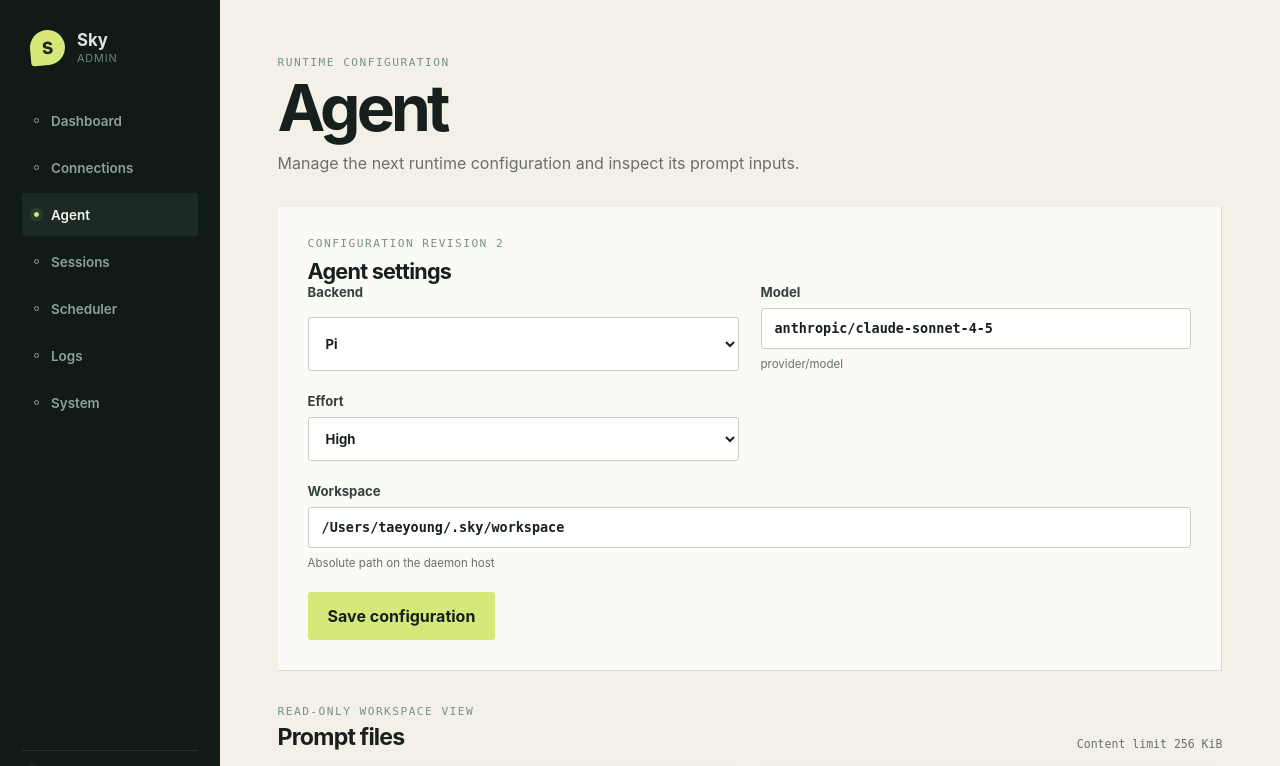
shows agent configuration and distinguishes prompt file states
The width and height of the screenshot is (1280, 766).
Expected: the heading "Agent settings" is shown, [308,258,451,284]
Expected: the dropdown labelled "Backend" shows "Pi", [308,317,738,371]
Click the link "Dashboard" at coordinates (78, 120), box [34,112,122,128]
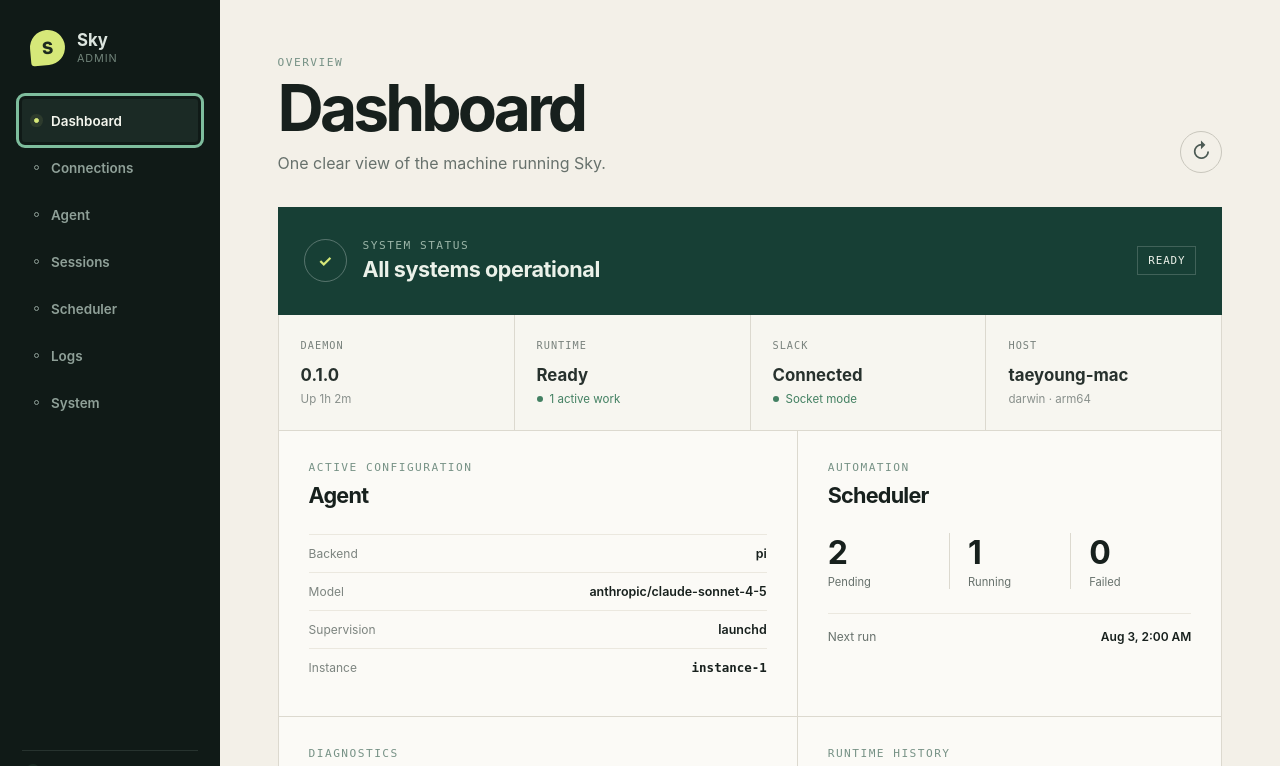
Expected: the heading "Dashboard" is shown, [278,77,606,140]
